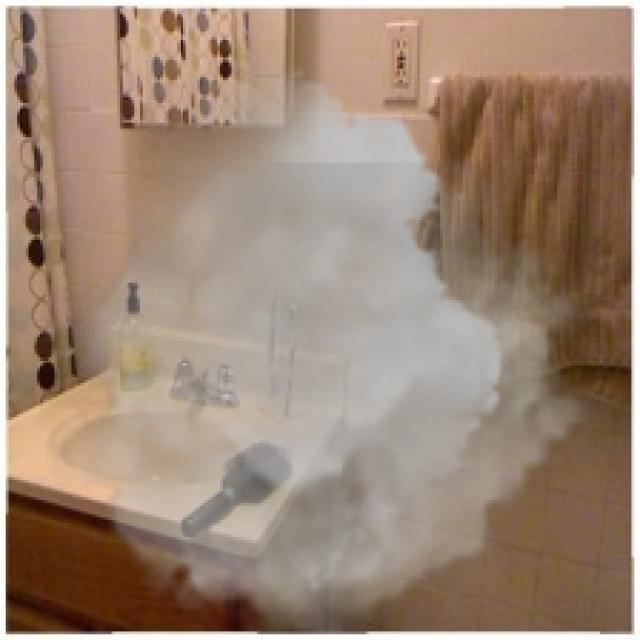Smoke: (45, 68, 606, 634)
